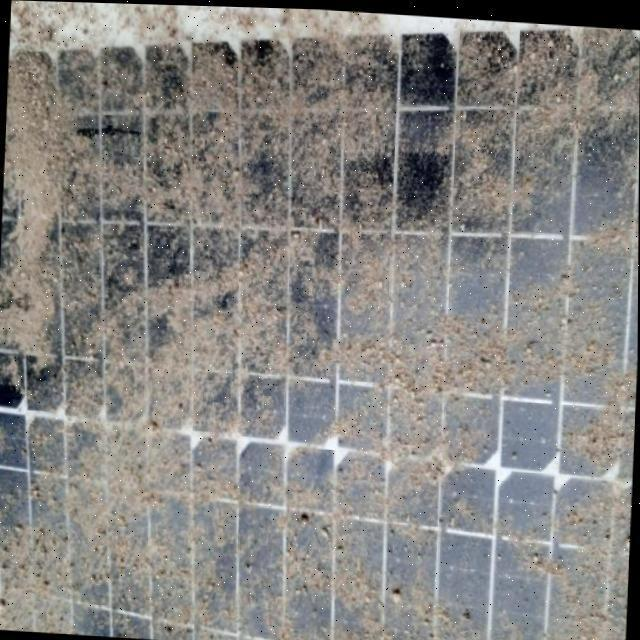Surface Contaminant: (0, 35, 640, 640)
